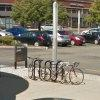Bicycle: (18, 49, 95, 90)
